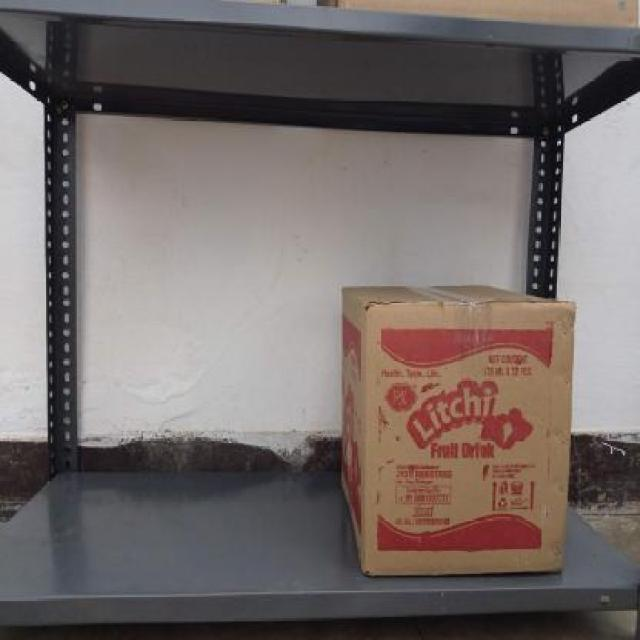box: (363, 298, 568, 574)
